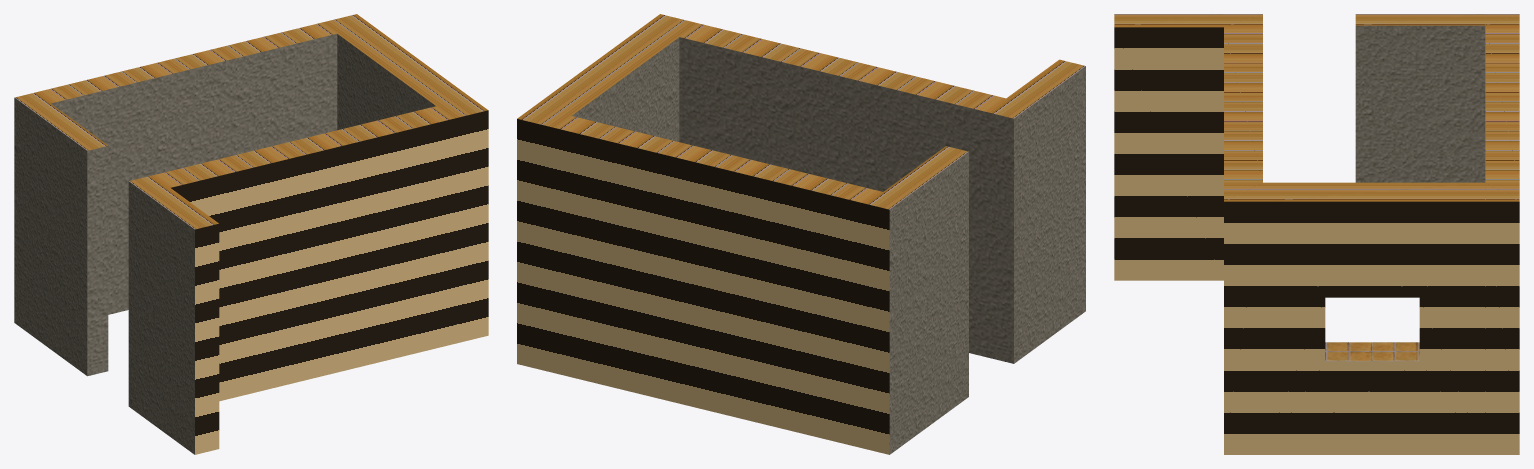
File: salle1_f1.obj
3 views of the same model, side by side, from view 1: azimuth 30°, elevation 25°; view 2: azimuth 150°, elevation 25°; view 3: azimuth 270°, elevation 25° (orthographic). The views are drawn at different scales.
Visible parts, largest first — view 1: Cube_Cube.000; view 2: Cube_Cube.000; view 3: Cube_Cube.000.
Boxes of the visible parts, bbox=[...] form: Cube_Cube.000: bbox=[14, 14, 488, 454]; Cube_Cube.000: bbox=[517, 14, 1085, 454]; Cube_Cube.000: bbox=[1114, 14, 1519, 454].
Size of the model in its own units: 3.5 by 2.2 by 3.19.
